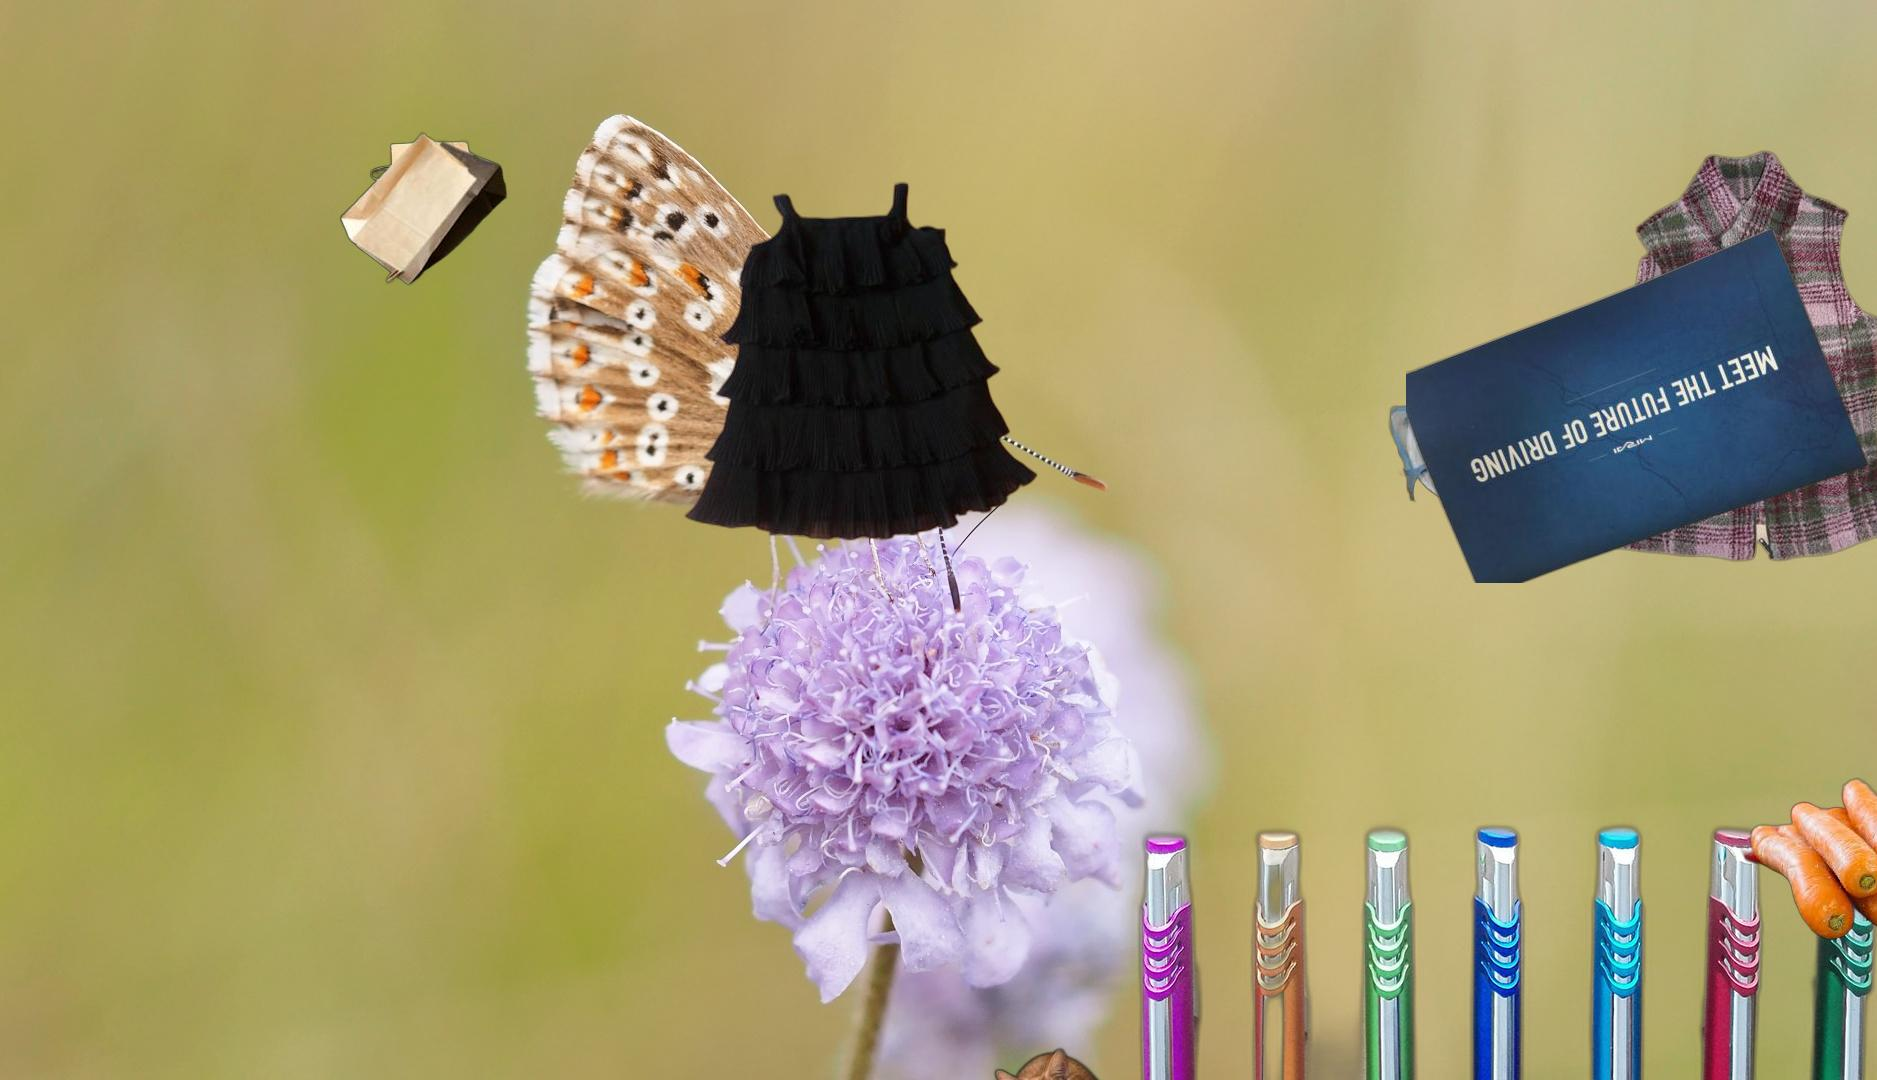biological: (1715, 776, 1877, 942)
clothes: (683, 178, 1042, 544), (1597, 146, 1877, 564)
paper: (1406, 226, 1872, 583)
paper-bag: (338, 131, 566, 287)
penholder: (1132, 803, 1877, 1080)
trash: (1387, 354, 1608, 510)
trashbox-cardboard: (869, 915, 1275, 1080)
